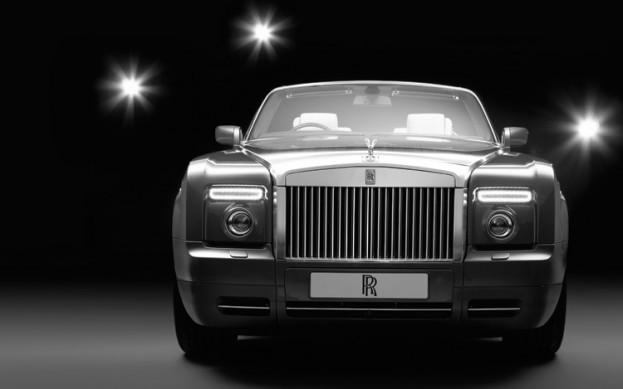car: (169, 77, 576, 369)
